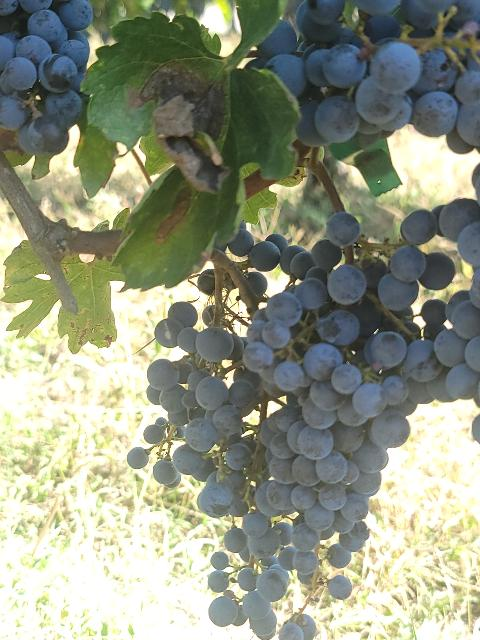grapes: (249, 210, 479, 585), (129, 222, 300, 640), (249, 0, 480, 195)
